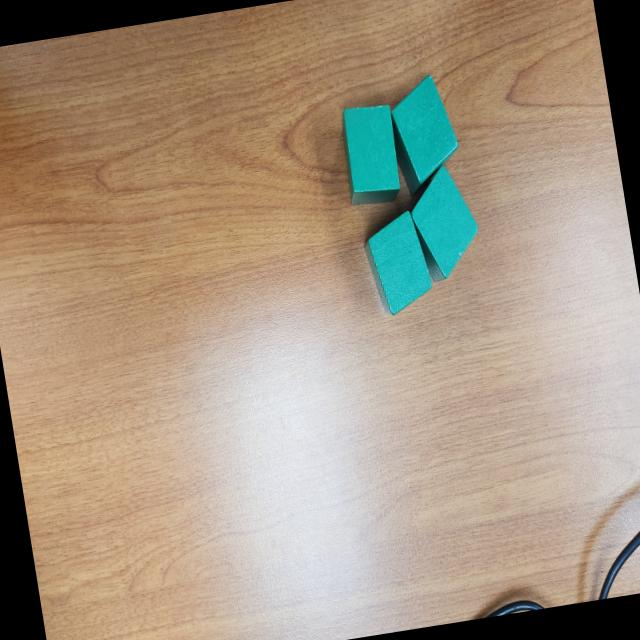green: (385, 70, 467, 200), (404, 158, 486, 286), (359, 208, 437, 318), (336, 100, 407, 210)
